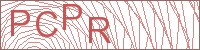C: (35, 10, 59, 40)
P: (8, 9, 32, 39), (60, 2, 83, 32)
R: (86, 15, 113, 45)
